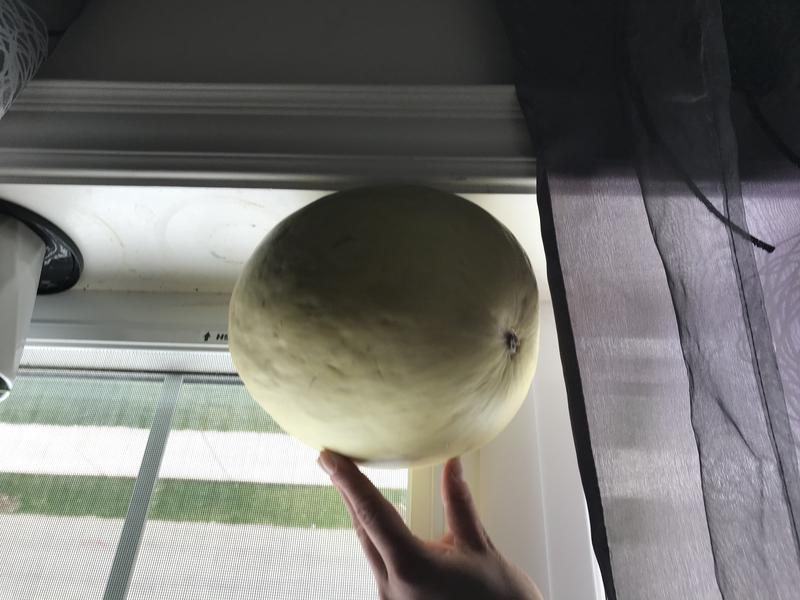honeydew: (218, 177, 558, 472)
